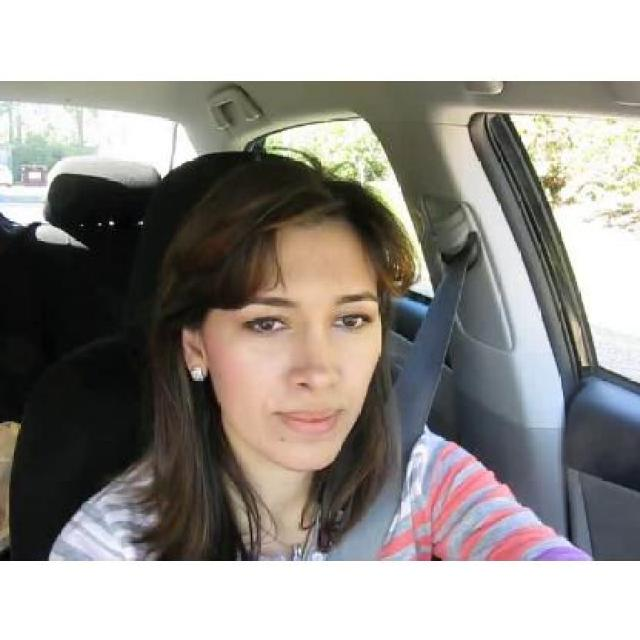attentif: (183, 152, 383, 472)
